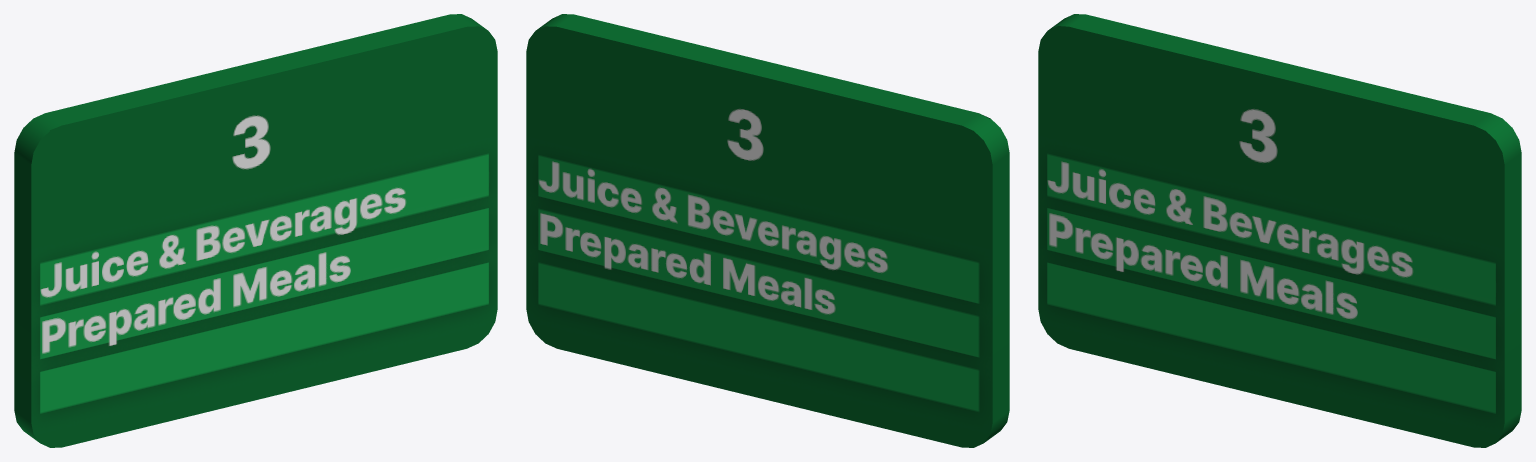
The model's file is aisle3sign.fbx.
3 renders of one model, left to right at view 1: azimuth 30°, elevation 25°; view 2: azimuth 150°, elevation 25°; view 3: azimuth 330°, elevation 25°, orthographic.
Parts seen in each view (by area): view 1: pCube1; view 2: pCube1; view 3: pCube1.
Boxes of the visible parts, box(x1,y1,x2,y2) form: pCube1: box(14, 14, 497, 447); pCube1: box(526, 14, 1009, 447); pCube1: box(1038, 14, 1521, 447).
Size of the model in its own units: 15.9 by 10.49 by 1.
